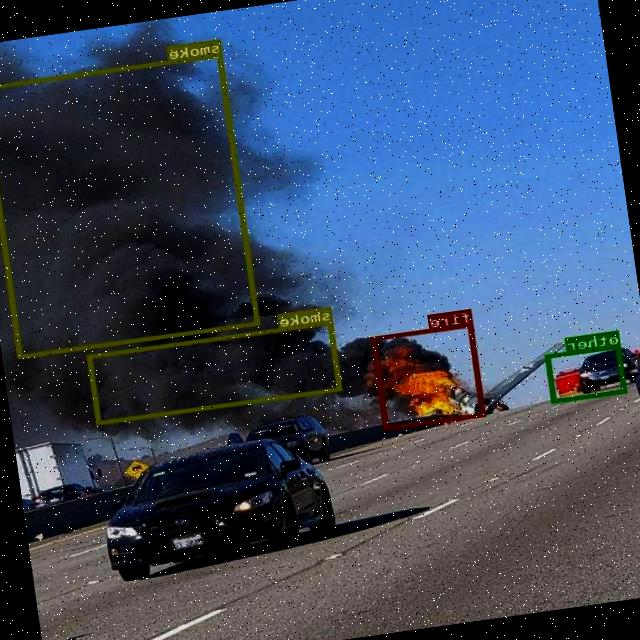fire: (372, 323, 487, 429)
smoke: (0, 52, 261, 358), (89, 320, 342, 424)
